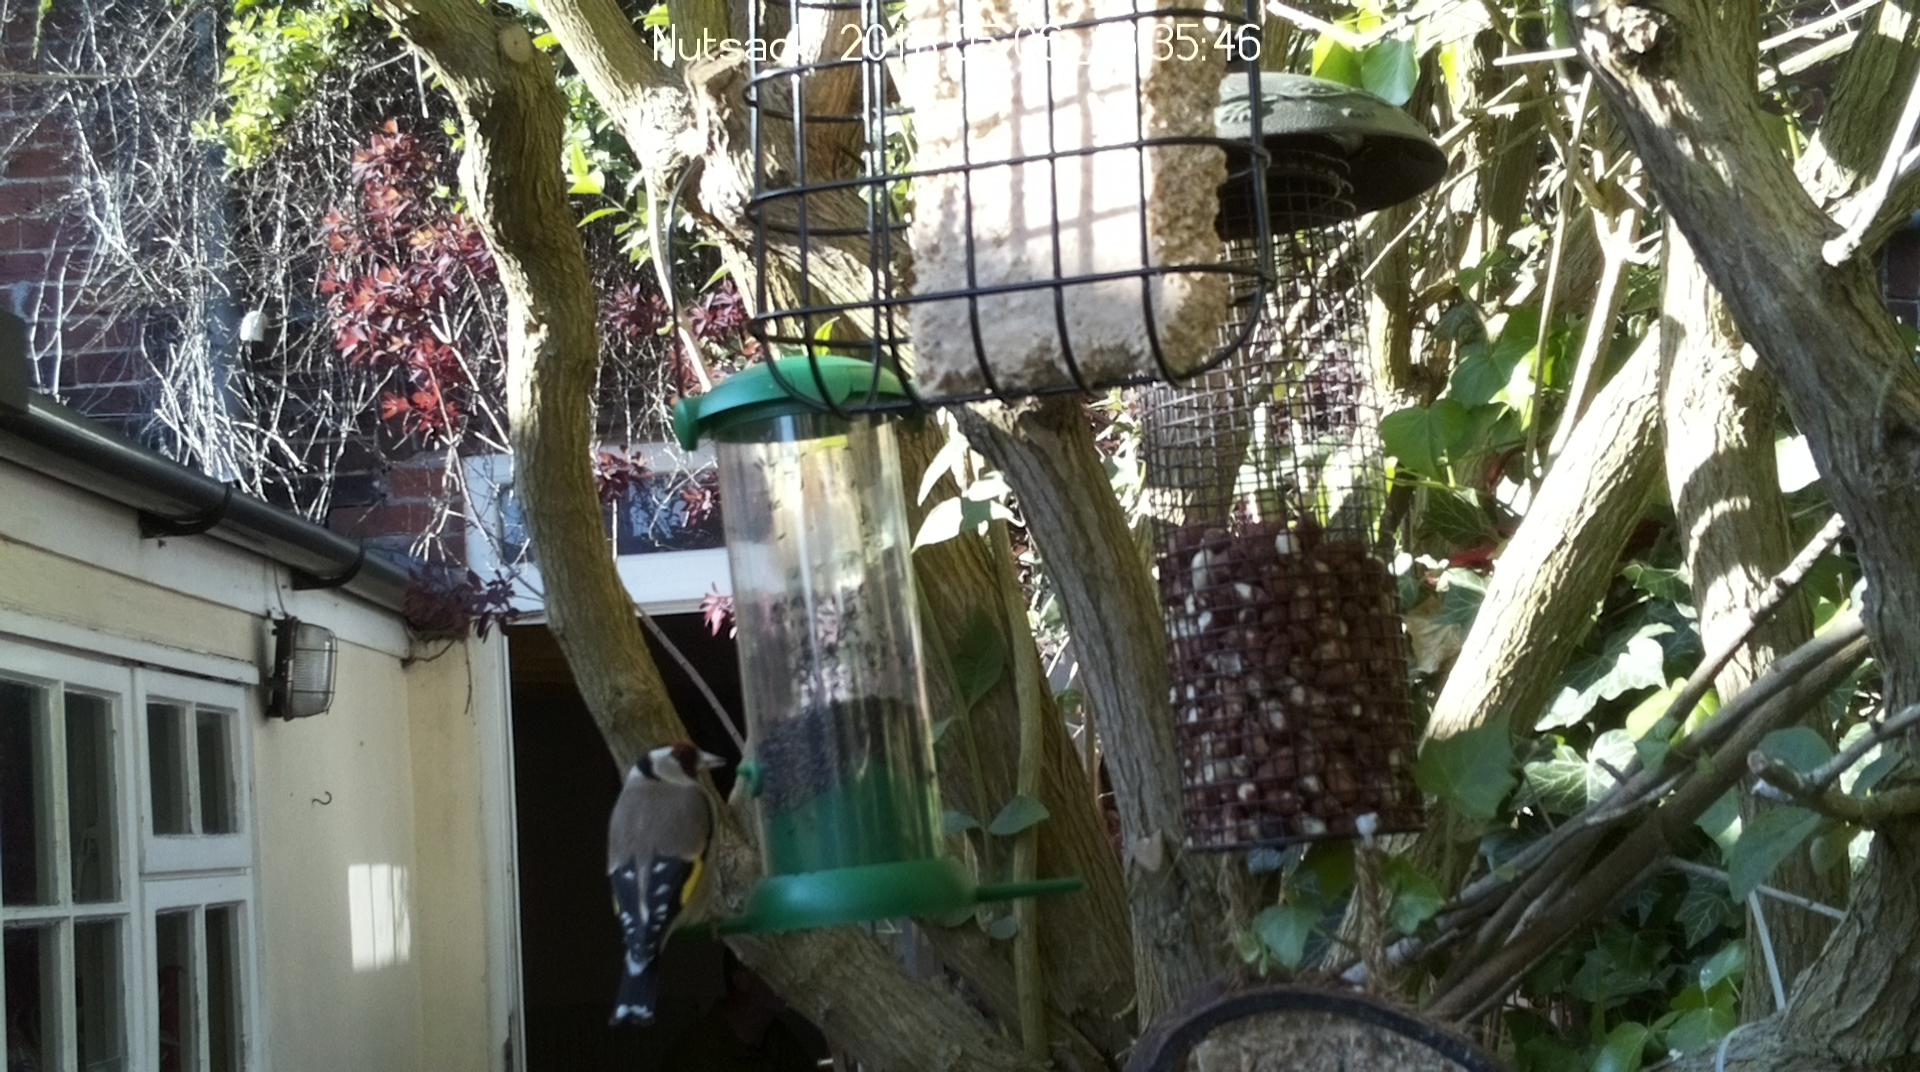goldfinch: (605, 741, 728, 1026)
